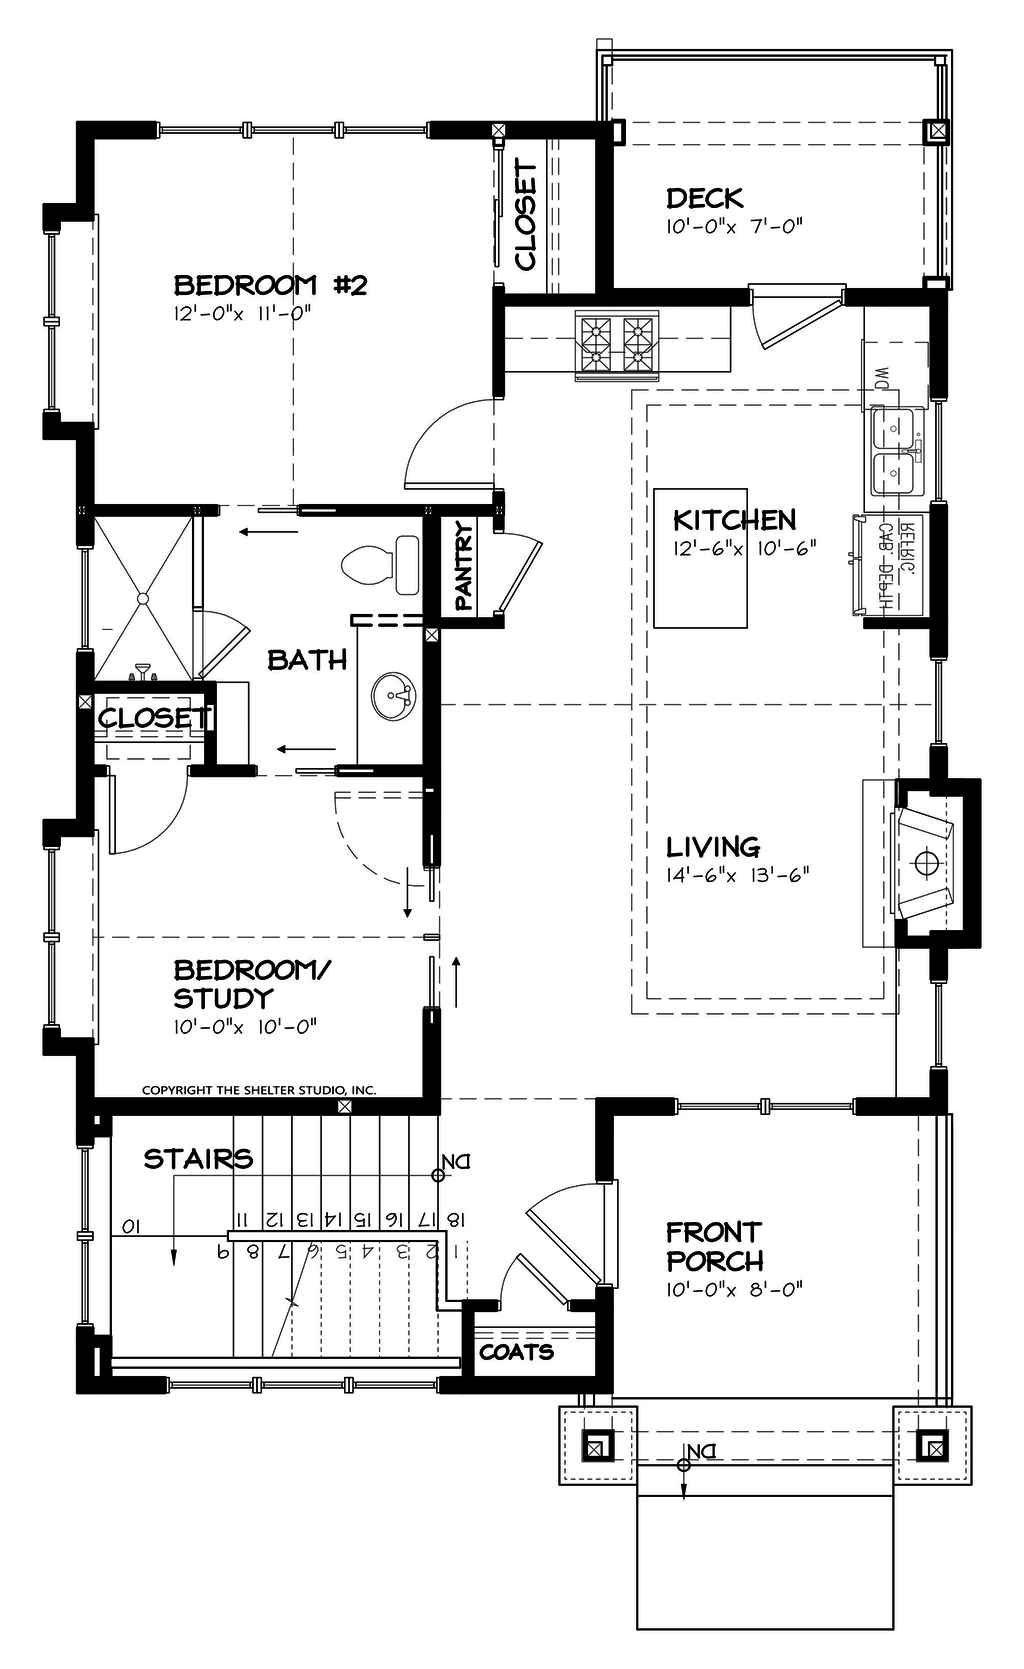door: (499, 1169, 648, 1299), (308, 775, 435, 895), (405, 393, 523, 498), (725, 272, 851, 359), (97, 753, 190, 860), (471, 511, 551, 618), (474, 1234, 566, 1316), (187, 598, 257, 682)
large_sink: (308, 516, 435, 606)
small_sink: (356, 612, 433, 775)
stairs: (87, 1100, 461, 1364)
twin_sink: (848, 390, 947, 494)
window: (156, 116, 410, 149), (669, 1085, 869, 1116), (917, 639, 958, 739)
